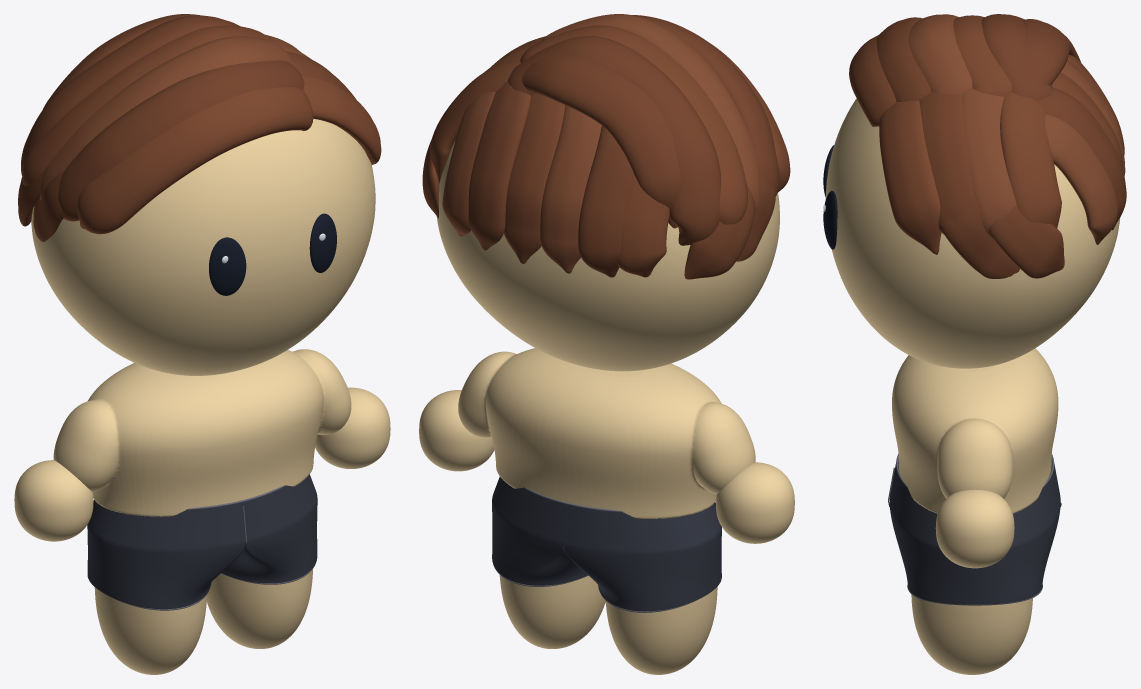
File: Masculine-base.glb
The picture shows the model from 3 angles, left to right: view 1: azimuth 30°, elevation 25°; view 2: azimuth 150°, elevation 25°; view 3: azimuth 270°, elevation 25°; orthographic projection.
Parts seen in each view (by area): view 1: Skin / soft oval head, Skin / rounded torso, Clothing / fixed shorts, Hair / Side part main 0, Hair / Side part main 1, Hair / Side part main 2, Skin / leg blob -1, Skin / leg blob 1, Hair / Side part main 3, Skin / orb hand -1, Hair / Side part main 4, Skin / orb hand 1 (+7 smaller); view 2: Skin / rounded torso, Skin / soft oval head, Clothing / fixed shorts, Hair / Side part crown, Hair / Side part main 4, Hair / Side part nape 2, Hair / Side part nape 4, Skin / leg blob -1, Hair / Side part main 3, Hair / Side part nape 3, Skin / leg blob 1, Hair / Side part nape 1 (+11 smaller); view 3: Skin / soft oval head, Skin / rounded torso, Clothing / fixed shorts, Skin / leg blob 1, Hair / Side part short 0, Hair / Side part short 3, Skin / orb hand 1, Hair / Side part short 1, Hair / Side part short 2, Hair / Side part nape 5, Hair / Side part main 2, Hair / Side part low 1 1 (+11 smaller).
Boxes of the visible parts, bbox=[...] form: Skin / soft oval head: bbox=[31, 118, 375, 375]; Skin / rounded torso: bbox=[53, 349, 351, 516]; Clothing / fixed shorts: bbox=[87, 474, 317, 609]; Hair / Side part main 0: bbox=[77, 87, 313, 234]; Hair / Side part main 1: bbox=[58, 60, 304, 221]; Hair / Side part main 2: bbox=[39, 36, 291, 200]; Skin / leg blob -1: bbox=[94, 587, 206, 674]; Skin / leg blob 1: bbox=[206, 569, 312, 648]; Hair / Side part main 3: bbox=[22, 25, 272, 186]; Skin / orb hand -1: bbox=[14, 460, 93, 541]; Hair / Side part main 4: bbox=[21, 15, 240, 174]; Skin / orb hand 1: bbox=[315, 387, 390, 468]; Skin / rounded torso: bbox=[458, 348, 755, 518]; Skin / soft oval head: bbox=[436, 141, 779, 371]; Clothing / fixed shorts: bbox=[492, 476, 721, 611]; Hair / Side part crown: bbox=[522, 55, 680, 228]; Hair / Side part main 4: bbox=[508, 36, 721, 245]; Hair / Side part nape 2: bbox=[540, 105, 601, 273]; Hair / Side part nape 4: bbox=[468, 81, 530, 250]; Skin / leg blob -1: bbox=[605, 587, 717, 674]; Hair / Side part main 3: bbox=[520, 25, 747, 224]; Hair / Side part nape 3: bbox=[504, 93, 564, 264]; Skin / leg blob 1: bbox=[499, 575, 605, 648]; Hair / Side part nape 1: bbox=[578, 126, 634, 277]; Skin / soft oval head: bbox=[825, 98, 1120, 368]; Skin / rounded torso: bbox=[892, 348, 1058, 513]; Clothing / fixed shorts: bbox=[888, 461, 1061, 604]; Skin / leg blob 1: bbox=[911, 594, 1032, 674]; Hair / Side part short 0: bbox=[879, 100, 941, 254]; Hair / Side part short 3: bbox=[1000, 92, 1061, 228]; Skin / orb hand 1: bbox=[935, 489, 1014, 568]; Hair / Side part short 1: bbox=[919, 91, 973, 234]; Hair / Side part short 2: bbox=[962, 88, 1016, 238]; Hair / Side part nape 5: bbox=[1045, 114, 1117, 244]; Hair / Side part main 2: bbox=[909, 14, 972, 95]; Hair / Side part low 1 1: bbox=[989, 206, 1064, 278].
Bounding box in the file's own units: 1.14 × 1.87 × 0.8319.
